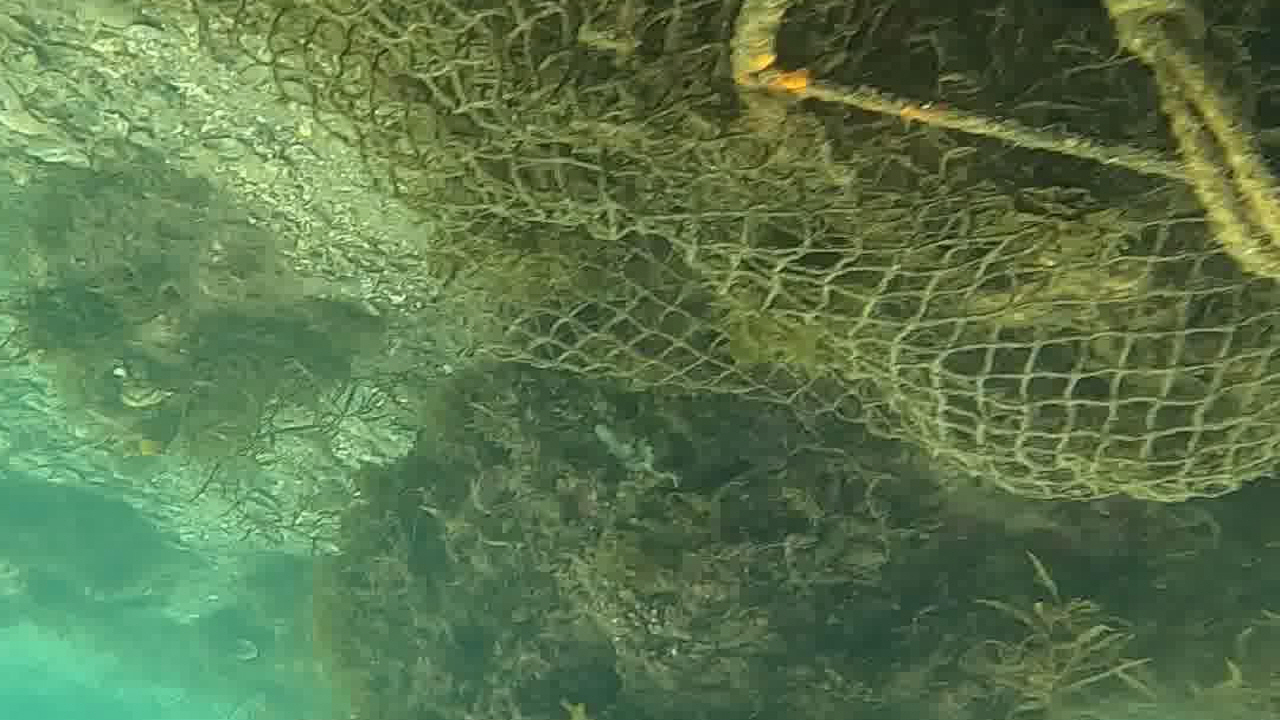fish net: (195, 0, 1280, 501)
